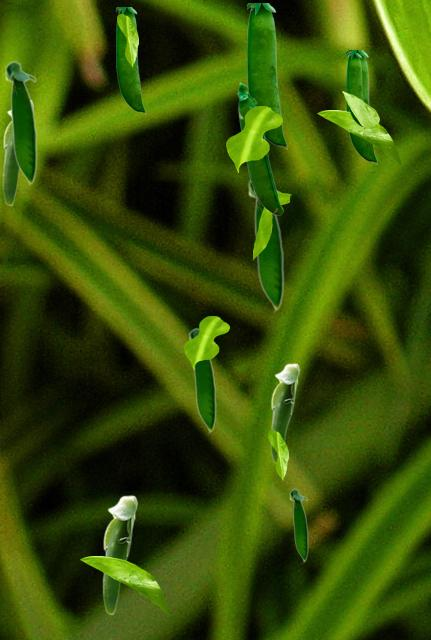pea: (237, 82, 282, 214), (247, 3, 286, 148), (247, 180, 283, 312), (102, 495, 137, 614), (4, 60, 36, 186), (346, 50, 376, 163), (2, 100, 33, 205), (116, 7, 144, 113), (270, 363, 299, 463), (188, 327, 215, 433), (289, 488, 307, 562), (347, 53, 363, 127)
